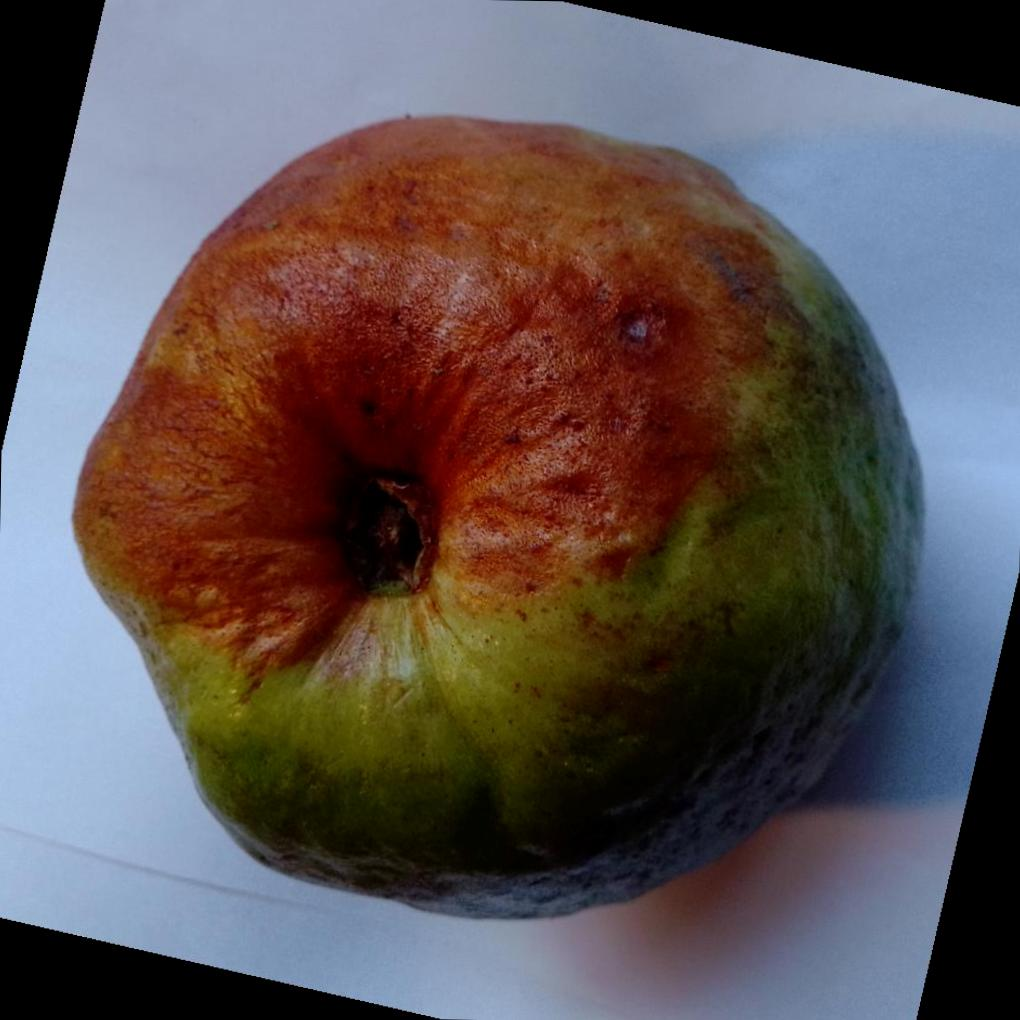FreshOrange: (70, 116, 925, 926)
